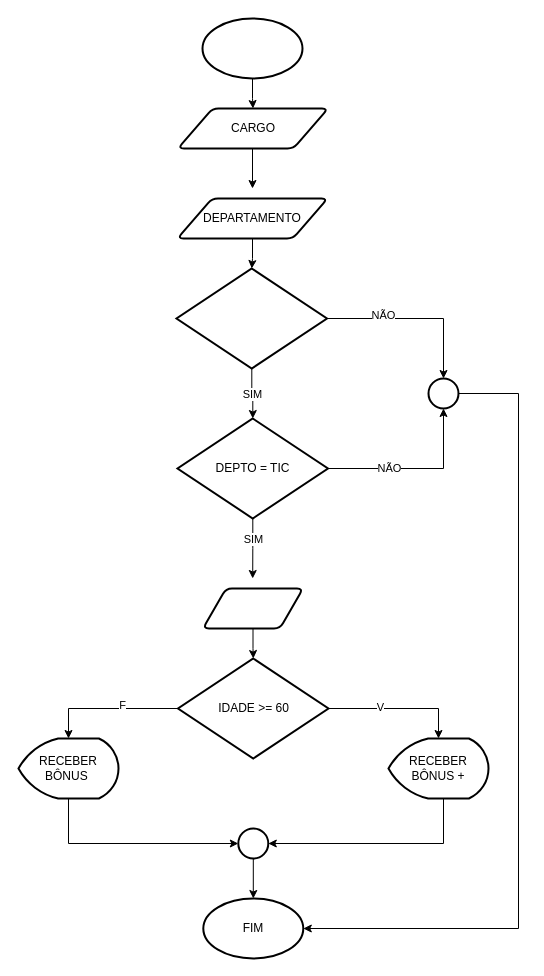
Image size: 544x976. Some labels were removed from this diagram. Here are the shapes that lost their labels. From the top down, the box of each, then its label:
(201, 17, 303, 79): INICIO
(175, 267, 328, 369): CARGO = GERENTE
(202, 587, 304, 629): IDADE
